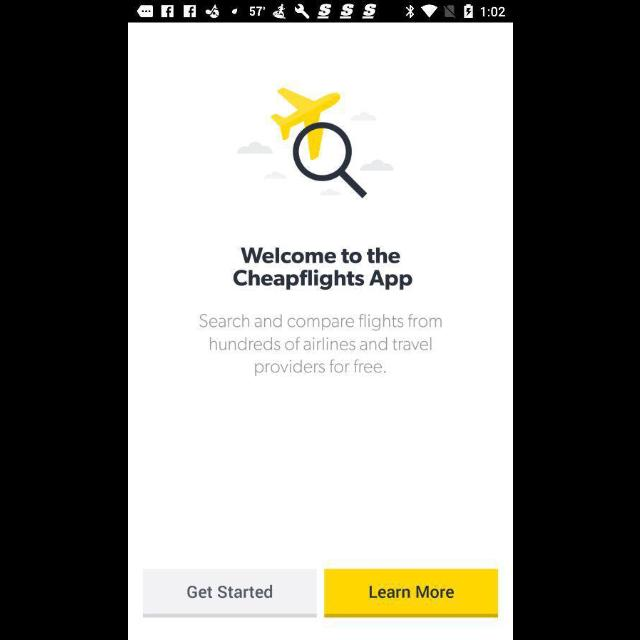image: (236, 88, 394, 200)
text: (198, 314, 442, 376), (233, 248, 412, 290)
textbutton: (324, 568, 498, 618), (142, 570, 316, 618)
uppertaskbar: (128, 1, 512, 23)
